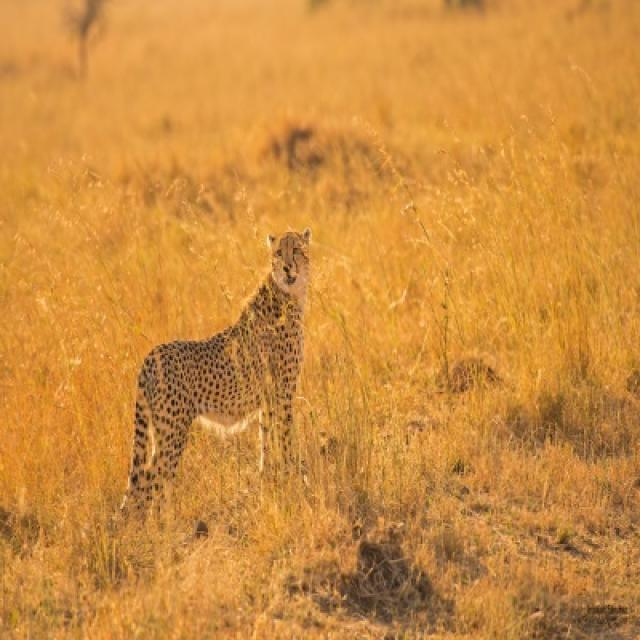Cheetah: (114, 230, 312, 523)
